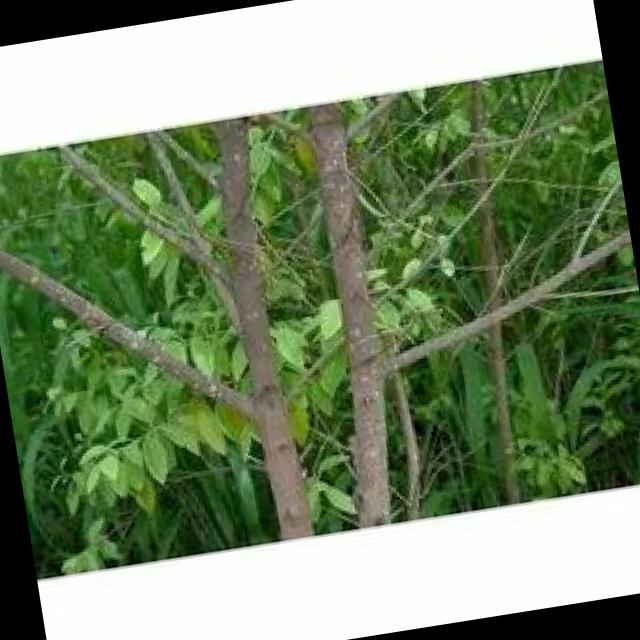Medicinal-Sandalwood: (21, 78, 563, 570)
